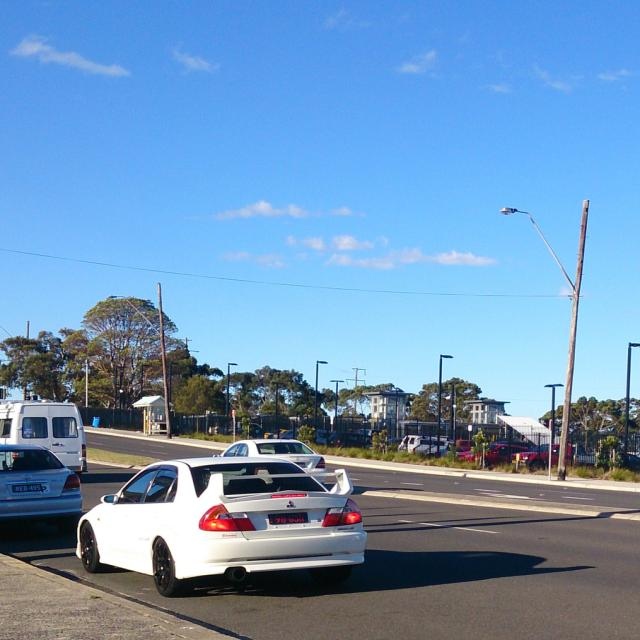car: (73, 454, 365, 597)
